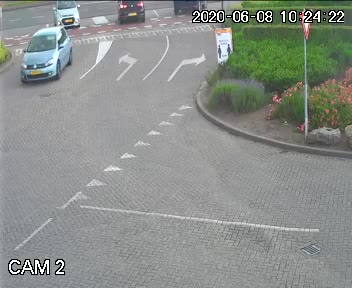car: (17, 25, 74, 78), (47, 0, 89, 33), (112, 0, 145, 27)
